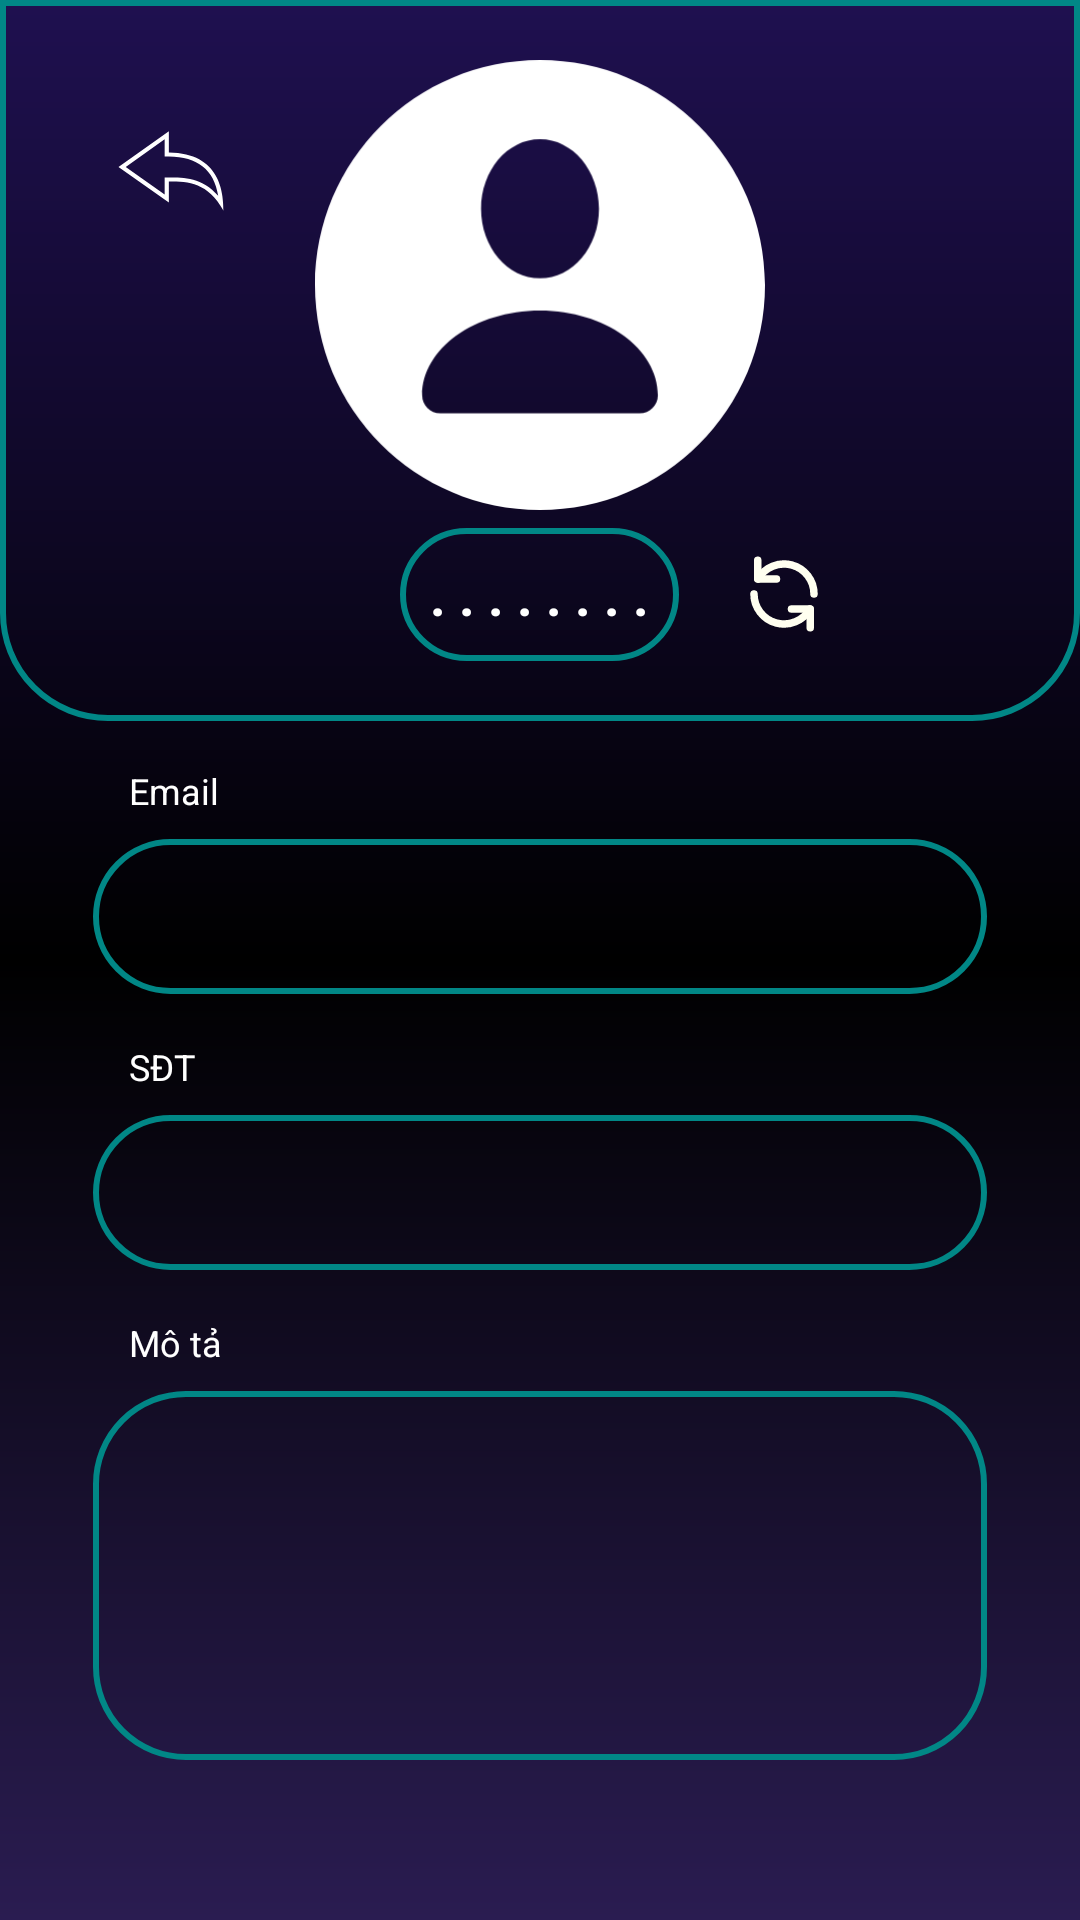

Point at icon controls on the screen. Image size 1080px×1920px, points as [x,y].
return: [171,171]
update: [784,594]
